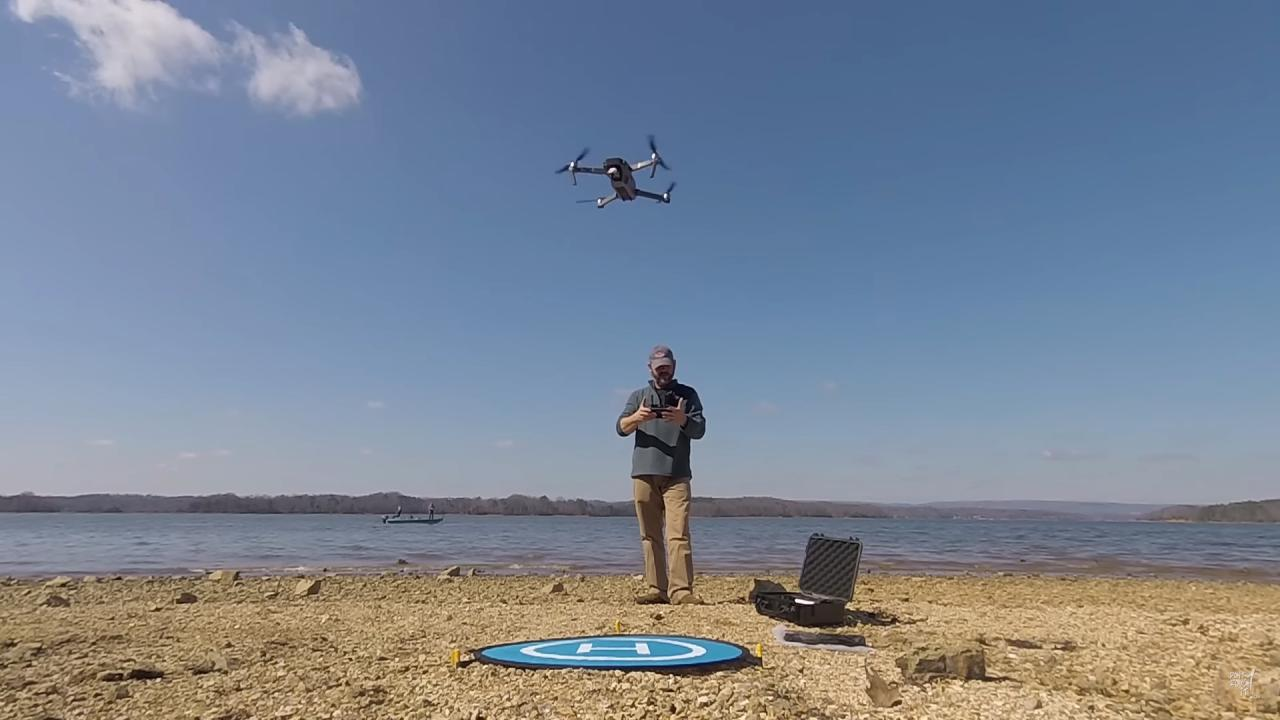Drone: (548, 128, 685, 218)
